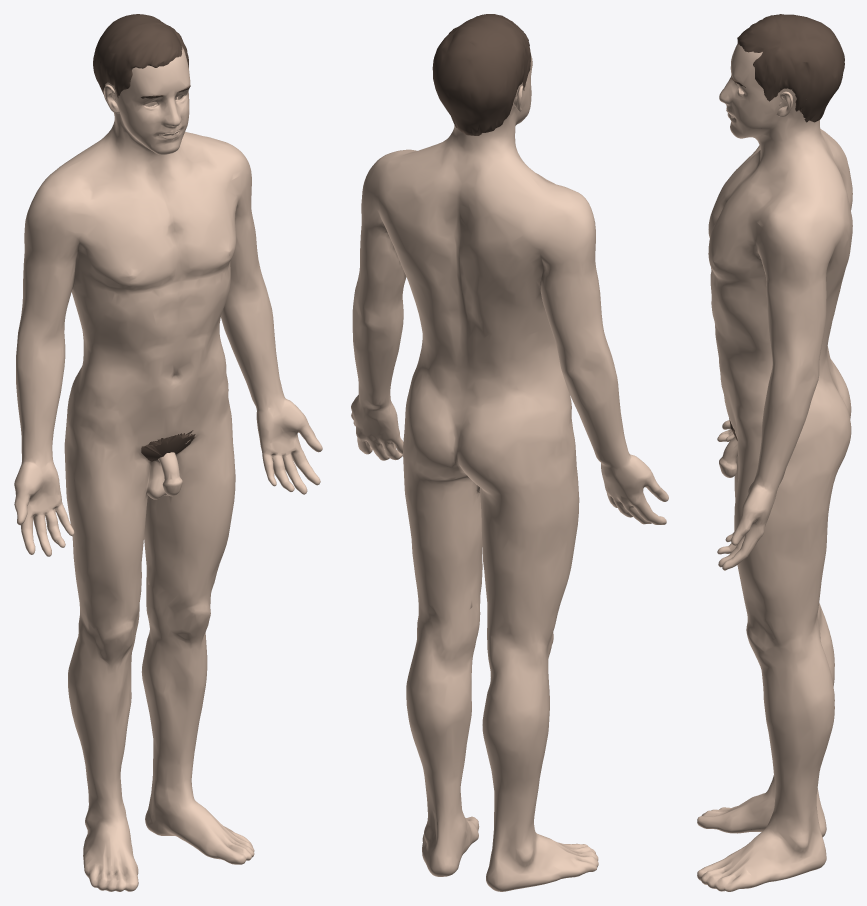
Rendered from body-skin.glb.
3 renders of one model, left to right at view 1: azimuth 30°, elevation 25°; view 2: azimuth 150°, elevation 25°; view 3: azimuth 270°, elevation 25°, orthographic. The views are drawn at different scales.
Parts seen in each view (by area): view 1: FJ2810, FJ2813, FJ2815; view 2: FJ2810, FJ2813; view 3: FJ2810, FJ2813.
Part boxes in pixels (x1,y1,x2,y2): FJ2810: [14, 47, 322, 891]; FJ2813: [93, 14, 188, 97]; FJ2815: [141, 430, 195, 461]; FJ2810: [351, 53, 668, 891]; FJ2813: [432, 14, 531, 135]; FJ2810: [697, 43, 852, 891]; FJ2813: [737, 14, 844, 122].
Size of the model in its own units: 0.6671 by 1.73 by 0.2921.
